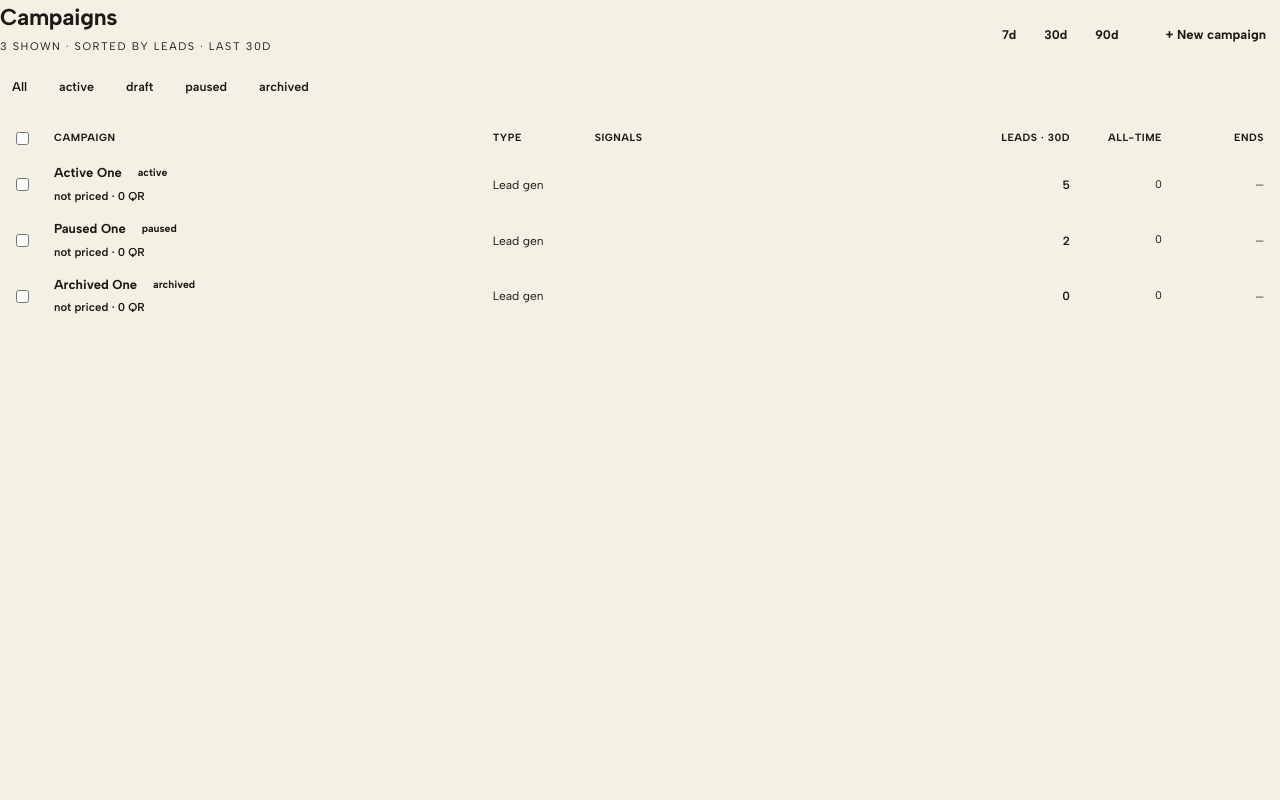
AdminV2Campaigns — bulk actions › select-all + pause pauses only the active campaign after confirm
The image size is (1280, 800).
Click the checkbox named "Select all visible campaigns" at x=22, y=138, box [16,132,29,144]
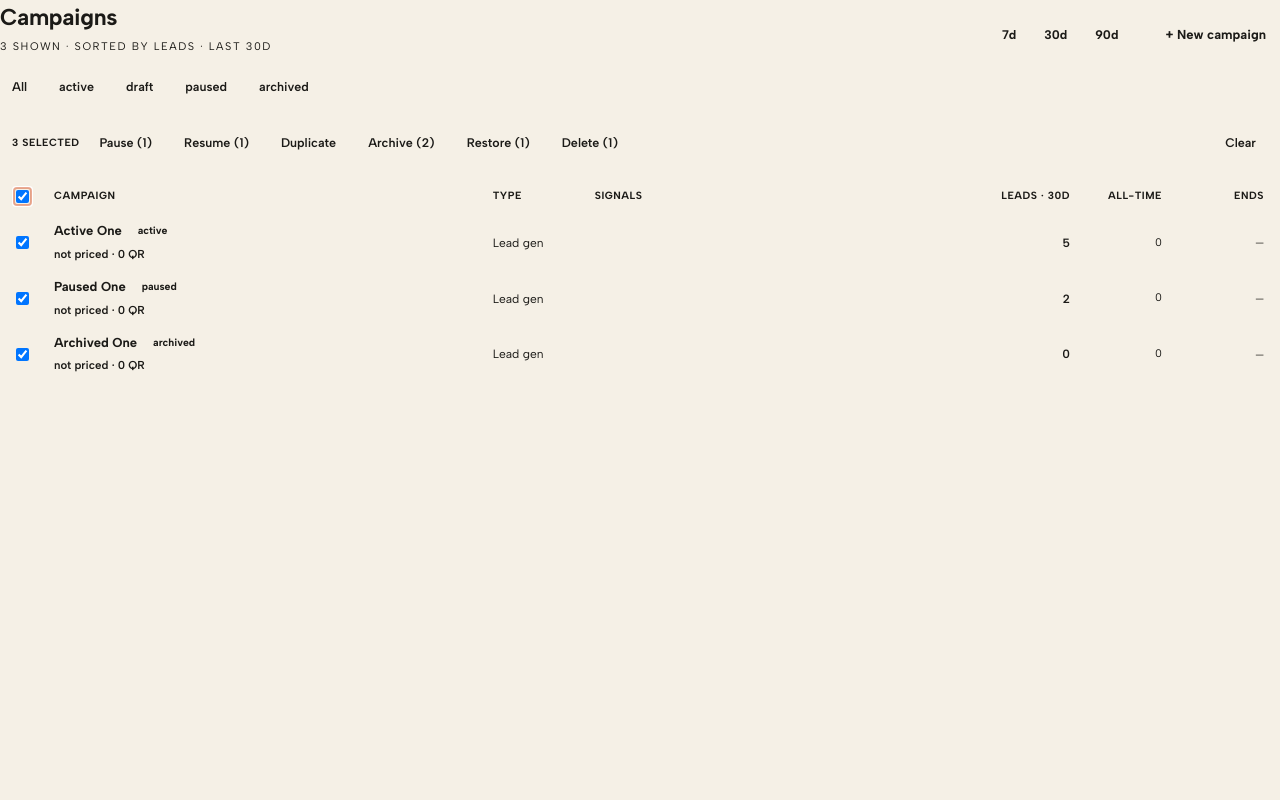
Expected: the element with test id "bulk-bar" shows "3 selected", [0,119,1279,167]
Click the button "Pause (1)" at x=126, y=143, box [88,127,164,159]
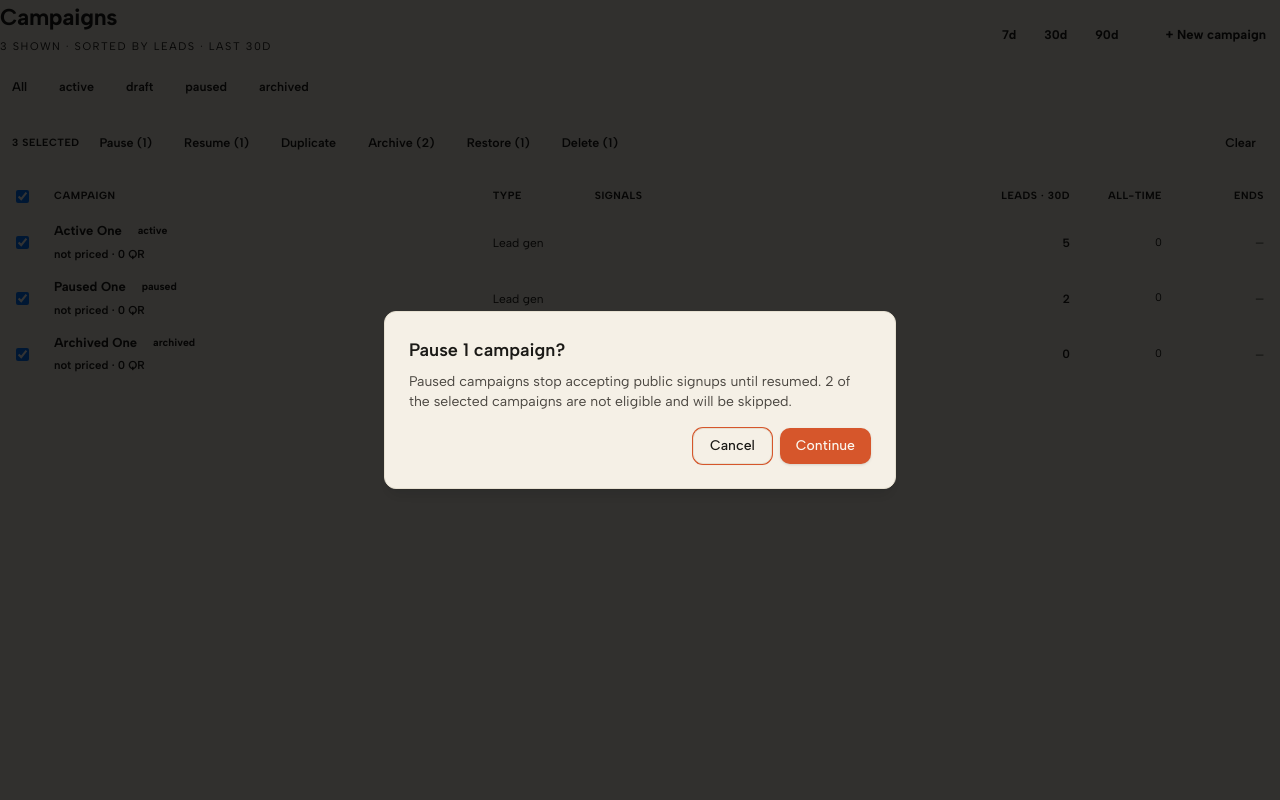
Expected: the heading "Pause 1 campaign?" is shown, [409,339,565,361]
Expected: the text "2 of the selected campaigns are not eligible" is shown, [409,373,850,410]
Click the button "Continue" at x=825, y=446, box [780,428,871,464]
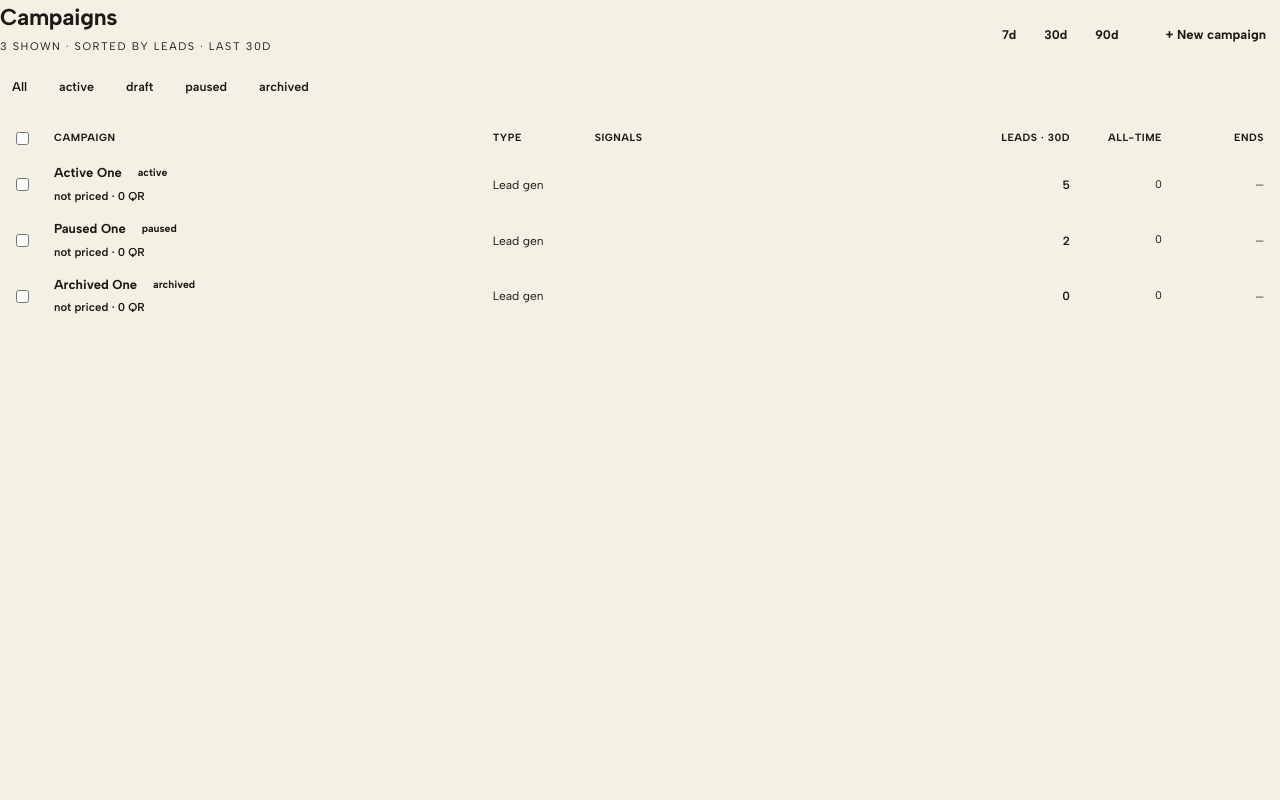
Expected: the element with test id "bulk-bar" is gone
